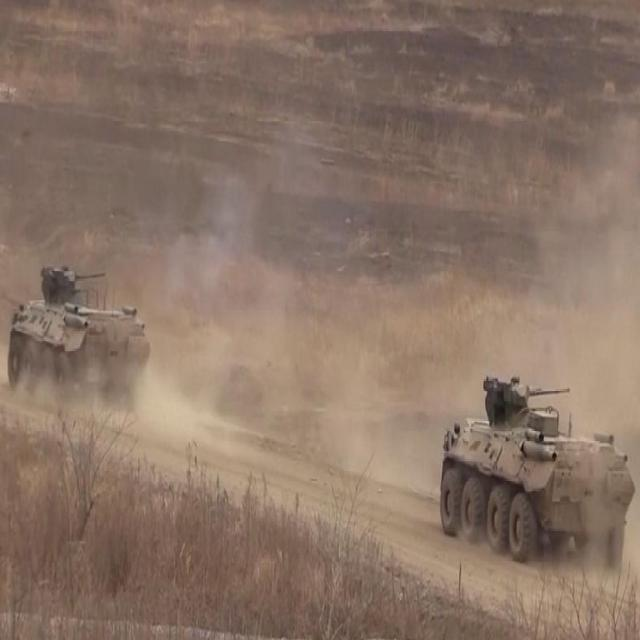APC-IFV: (439, 366, 632, 576), (6, 258, 154, 428)
